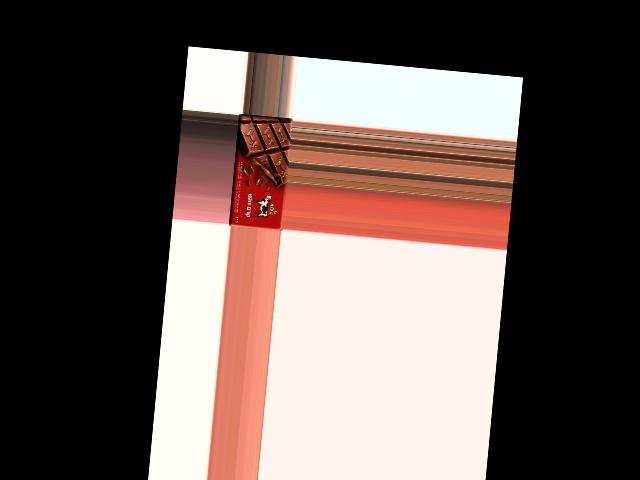chocolate: (229, 115, 292, 231)
